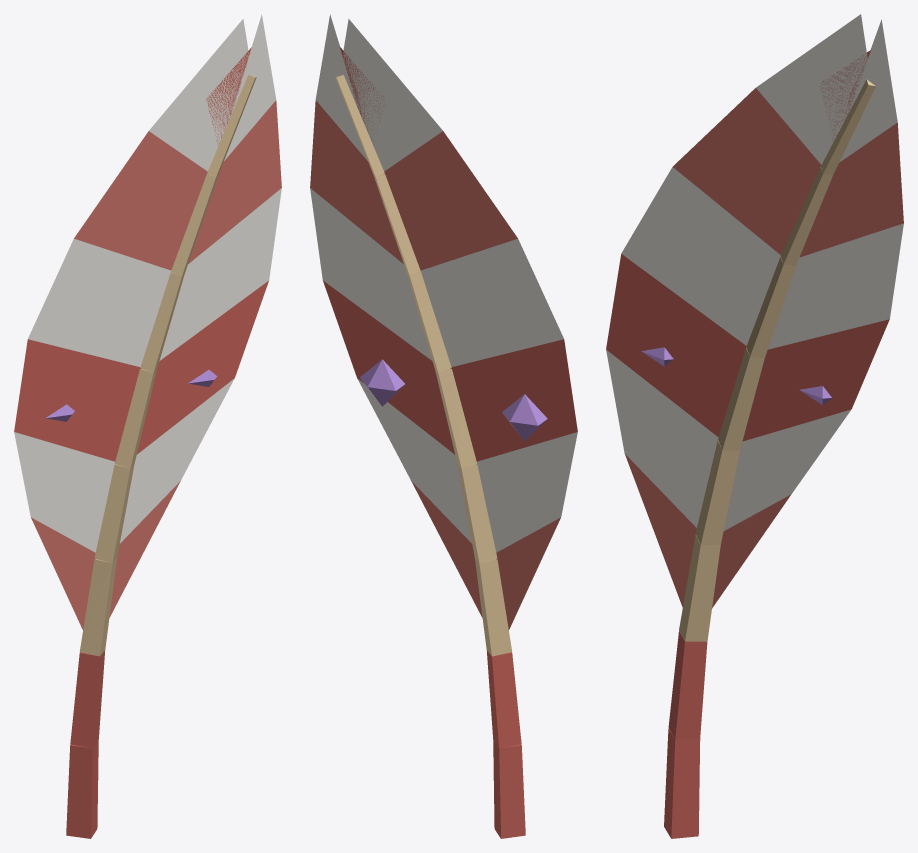
Rendered from deco_wind_feather.obj.
3 views of the same model, side by side, from view 1: azimuth 30°, elevation 25°; view 2: azimuth 150°, elevation 25°; view 3: azimuth 330°, elevation 25° (orthographic). The views are drawn at different scales.
Visible parts, largest first — view 1: deco_wind_feather; view 2: deco_wind_feather; view 3: deco_wind_feather.
Boxes of the visible parts, x1,y1,x2,y2 form: deco_wind_feather: (14, 14, 281, 838); deco_wind_feather: (310, 14, 577, 838); deco_wind_feather: (606, 14, 903, 838).
Bounding box in the file's own units: 0.0188 × 0.052 × 0.00266.
Materials: 1 (1 with a texture image).
